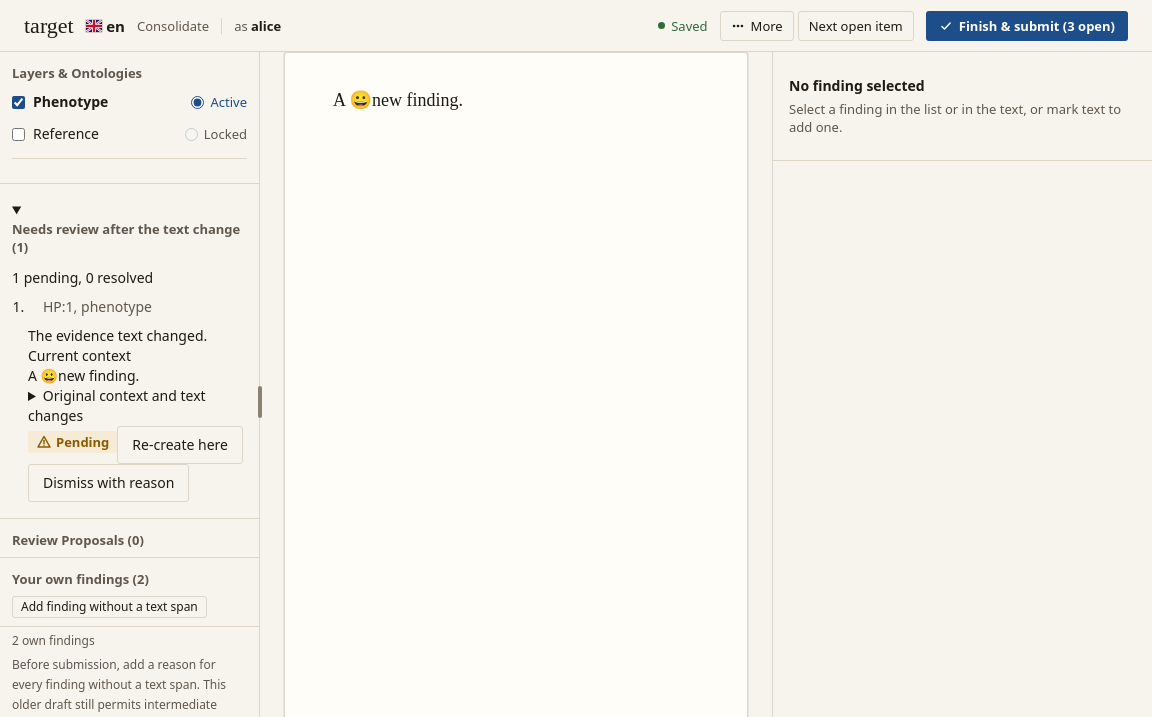
does not select an arbitrary replacement when multiple exact-source copies exist
Click the button "Re-create here".
click(180, 445)  # box [117, 426, 243, 464]
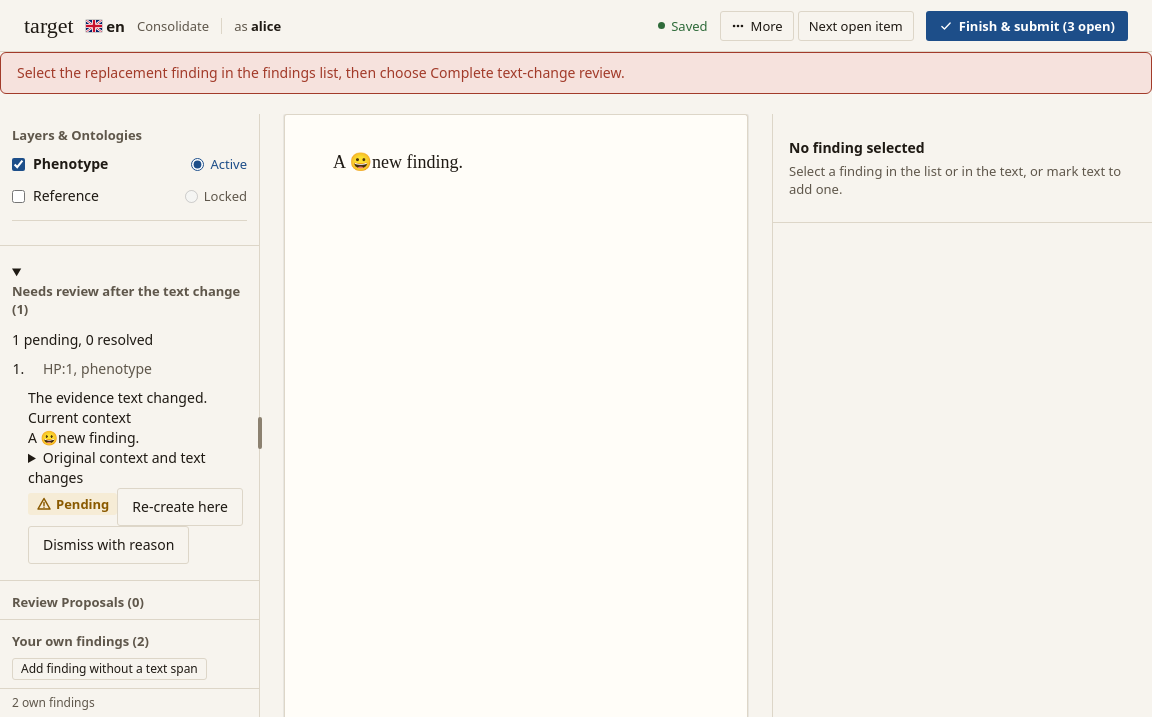
Expected: the text "Select the replacement finding in the findings list, then choose Complete text-change review." is shown, [17, 63, 625, 82]
